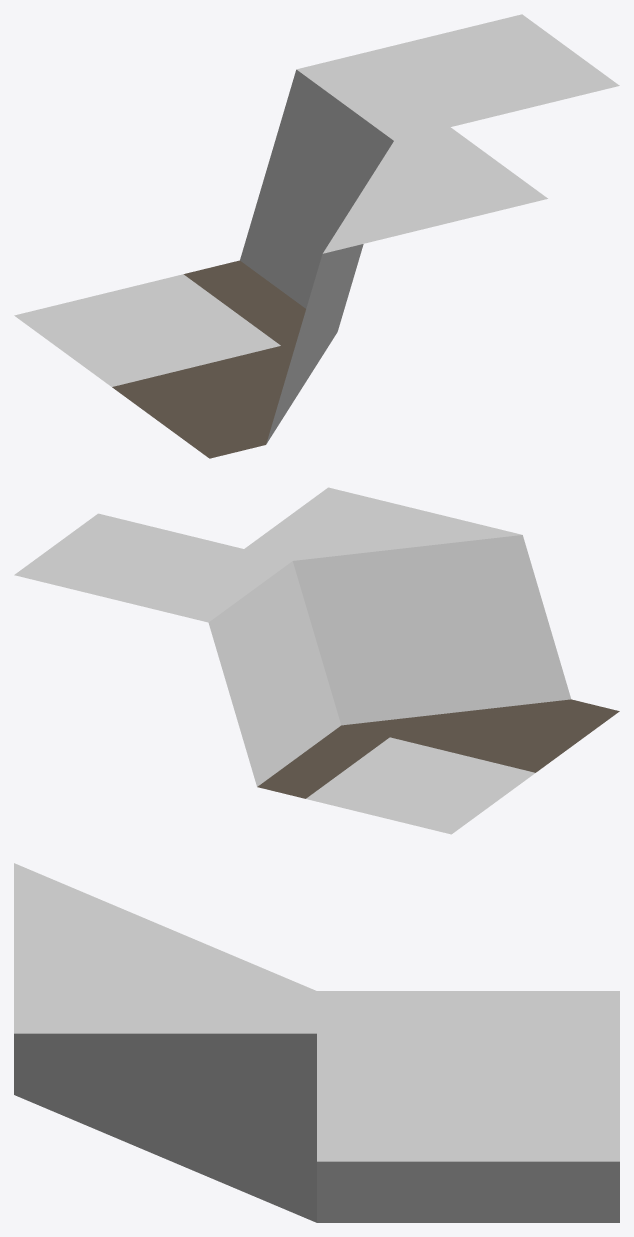
Rendered from simple_dungeon.fbx.
3 renders of one model, top to bottom at view 1: azimuth 30°, elevation 25°; view 2: azimuth 150°, elevation 25°; view 3: azimuth 270°, elevation 25°, orthographic. The views are drawn at different scales.
Visible parts, largest first — view 1: wall, solid, floor, convex, concave; view 2: concave, convex, wall, solid, floor; view 3: concave, solid, wall, convex.
Part boxes in pixels (box(x1,y1,x2,y2)): wall: box(183, 55, 450, 345); solid: box(353, 14, 619, 126); floor: box(14, 274, 280, 386); convex: box(112, 216, 378, 458); concave: box(281, 127, 547, 368); concave: box(244, 487, 473, 737); convex: box(390, 523, 619, 772); wall: box(160, 549, 389, 798); solid: box(14, 513, 243, 610); floor: box(306, 737, 534, 834); concave: box(14, 905, 316, 1222); solid: box(317, 1033, 619, 1161); wall: box(317, 991, 619, 1222); convex: box(14, 863, 215, 1179).
Size of the model in its own units: 400 by 600 by 200.
